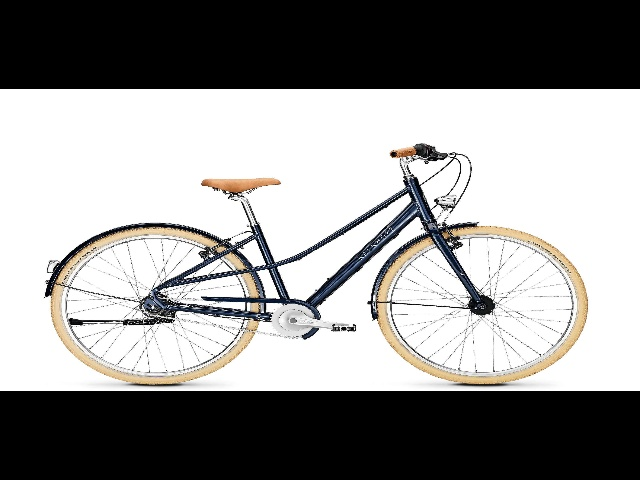bike: (39, 133, 597, 391)
